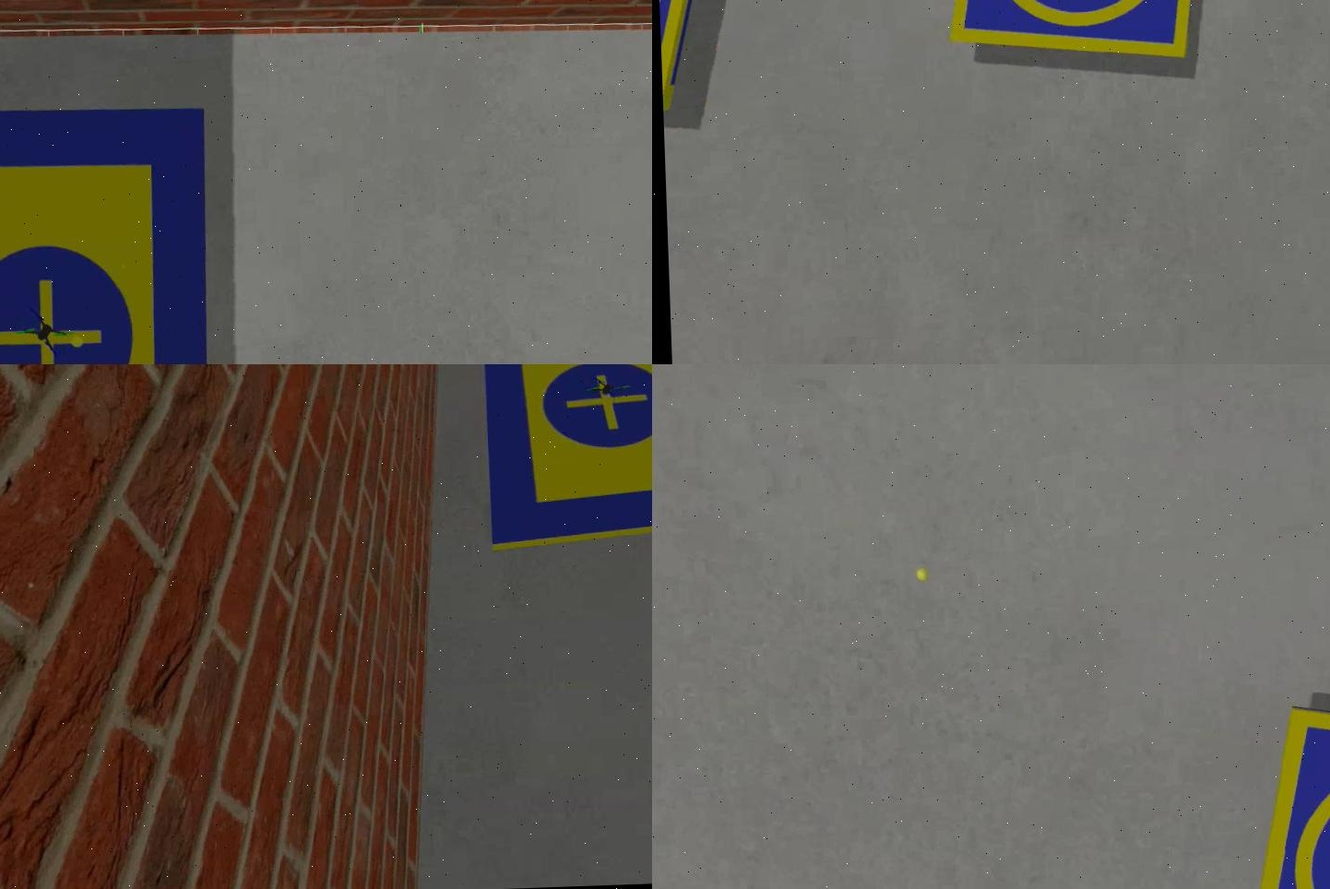large_base: (0, 101, 219, 365), (473, 365, 651, 556)
small_base: (944, 1, 1214, 69), (651, 1, 718, 115)
